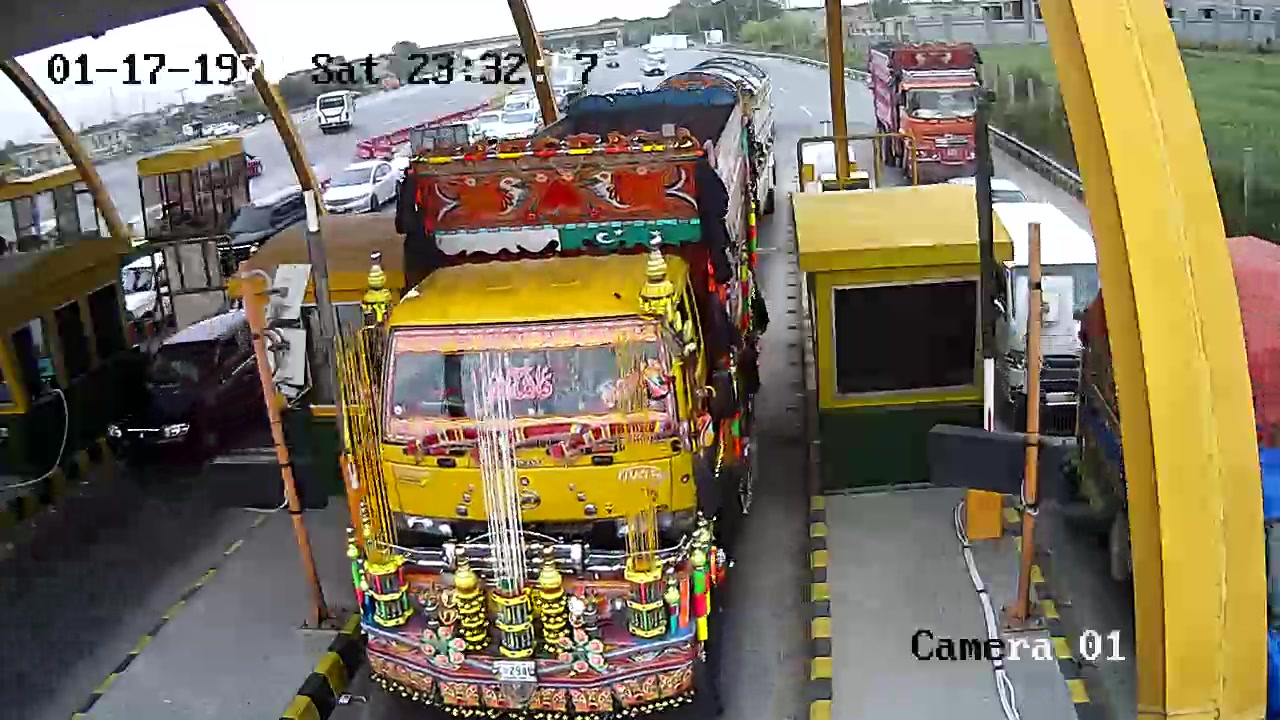F5: (348, 79, 774, 713)
